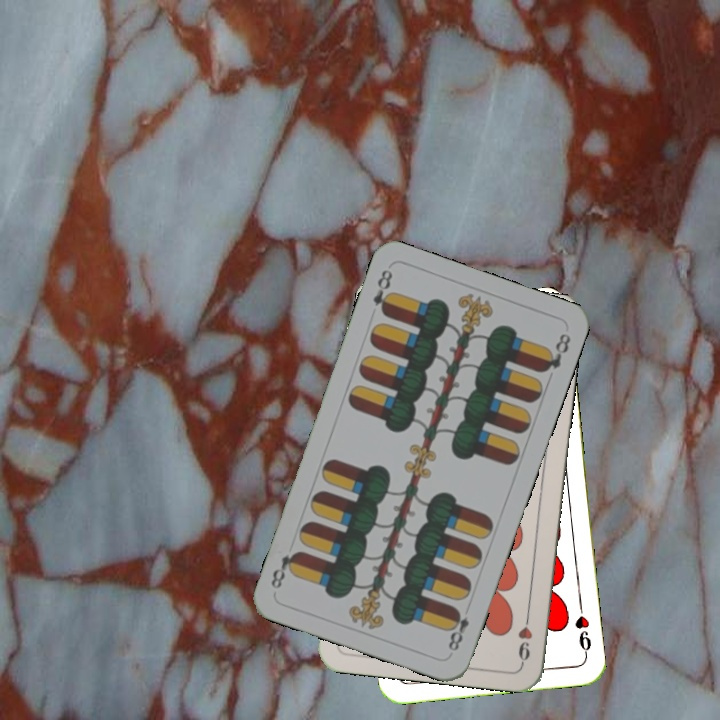E8: (369, 265, 396, 319), (444, 604, 472, 654)
H9: (571, 600, 594, 659), (514, 607, 535, 666)
